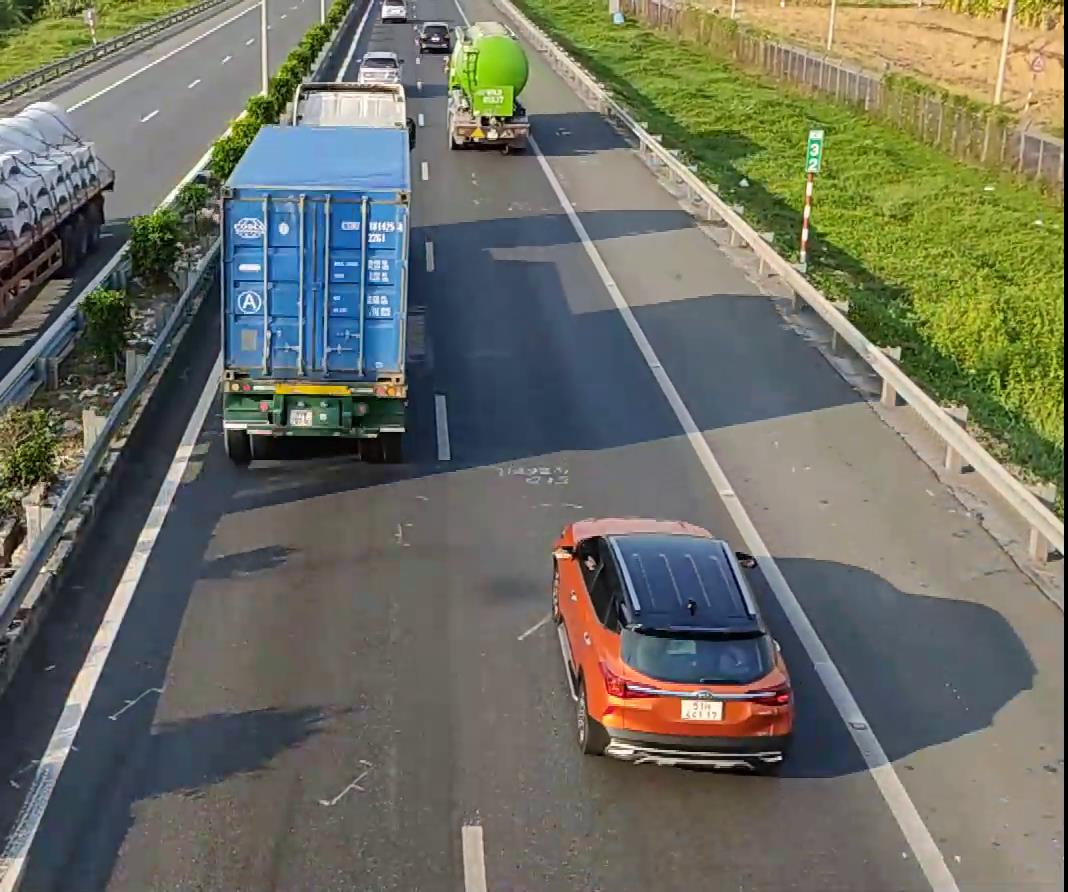car: (550, 514, 795, 769)
container: (216, 77, 421, 458), (444, 21, 529, 150)
